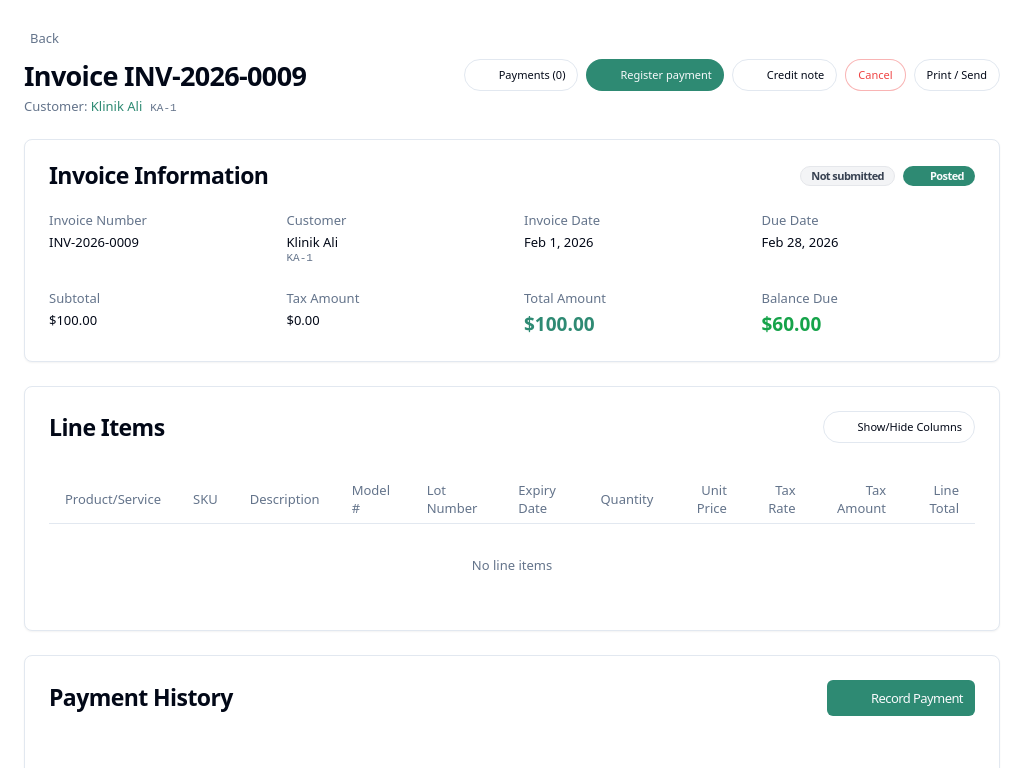
Test: CustomerInvoiceDetail — Register payment (#491 PAY-UX5) › opens the payment dialog in place from the header, without leaving the page
Click the button "Register payment" at (655, 75), box top-left (586, 59), bottom-right (724, 91)
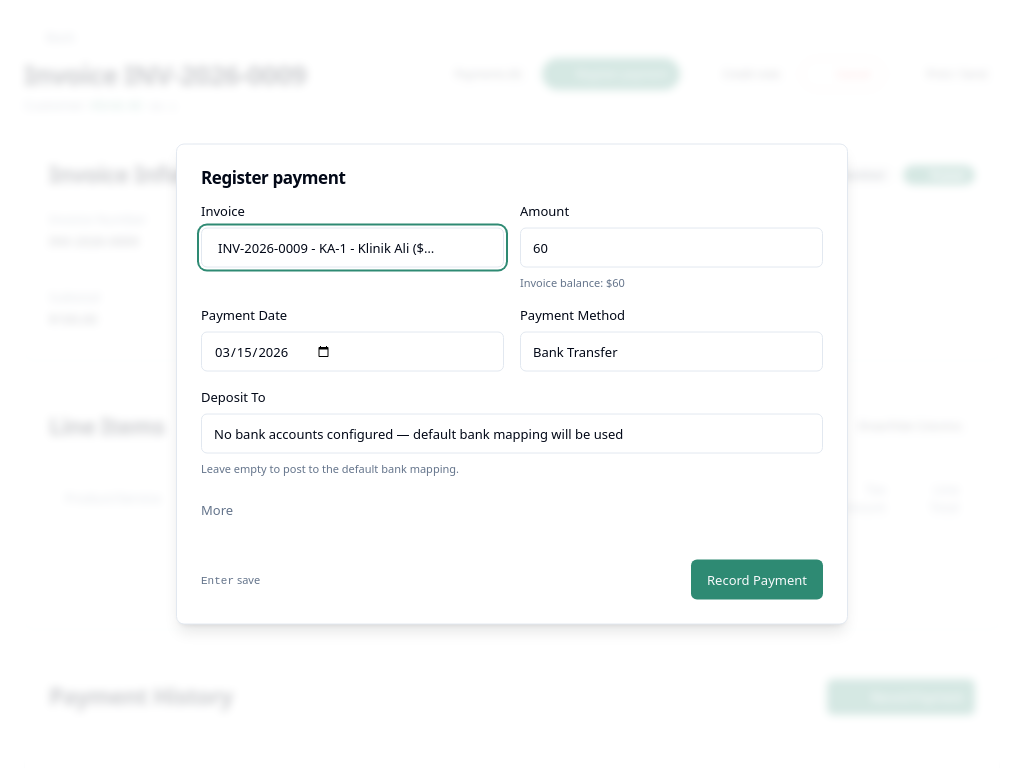
Expected: the number field labelled "Amount" holds "60", top-left (520, 228), bottom-right (823, 268)
Expected: the date field labelled "Payment Date" holds "2026-03-15", top-left (201, 332), bottom-right (504, 372)
